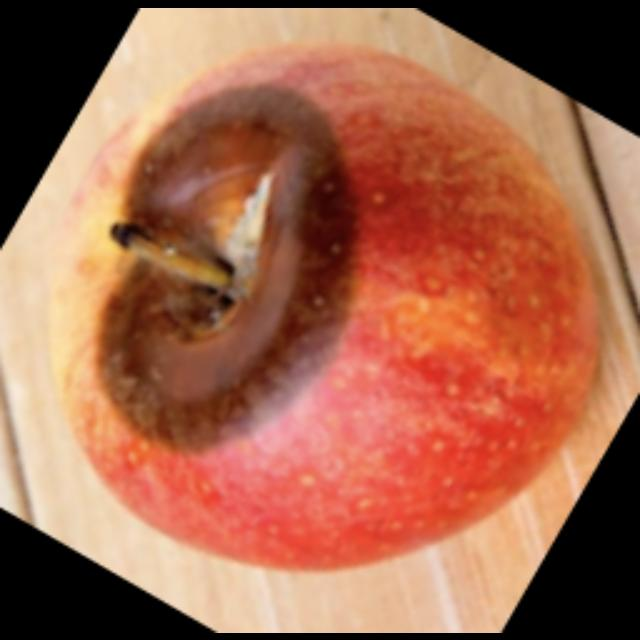Apel Tidak Segar: (63, 46, 605, 564)
